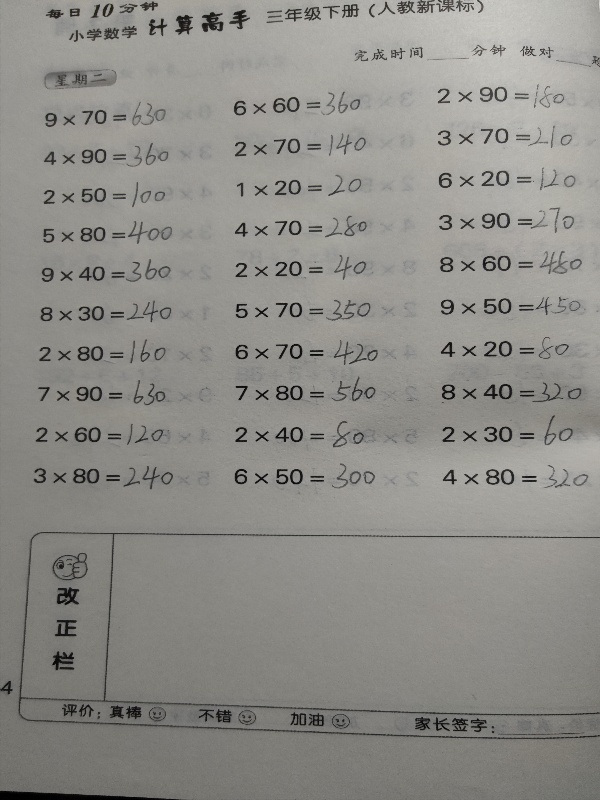equation: (438, 416, 576, 454), (235, 375, 384, 408), (440, 461, 593, 493), (231, 460, 379, 493), (231, 419, 367, 454), (230, 336, 382, 367), (435, 202, 582, 233), (437, 248, 586, 278), (30, 463, 177, 493), (434, 78, 576, 109), (233, 252, 370, 284), (34, 375, 169, 407), (437, 378, 584, 407), (40, 217, 181, 247), (437, 333, 573, 364), (231, 132, 370, 162), (232, 296, 375, 325), (40, 142, 172, 173), (33, 420, 174, 449), (230, 213, 370, 242), (229, 88, 364, 118), (39, 179, 174, 209), (35, 338, 169, 368), (38, 259, 175, 288), (41, 99, 169, 130), (37, 298, 176, 326), (233, 173, 366, 202), (437, 292, 585, 318), (434, 166, 578, 192), (434, 124, 575, 150)
